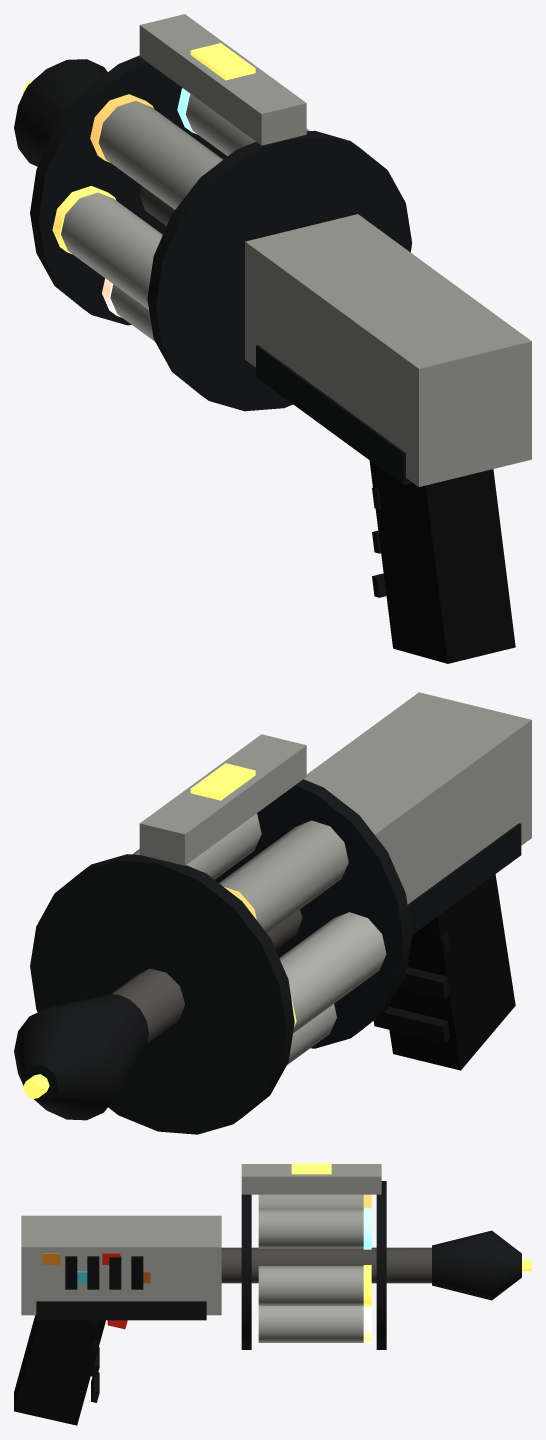
Rendered from tool_tag_painter.glb.
The picture shows the model from 3 angles, top to bottom: view 1: azimuth 30°, elevation 25°; view 2: azimuth 150°, elevation 25°; view 3: azimuth 270°, elevation 25°; orthographic projection. The views are drawn at different scales.
Visible parts, largest first — view 1: Body, Carousel; view 2: Body, Carousel; view 3: Body, Carousel.
Boxes of the visible parts, x1,y1,x2,y2 form: Body: (14, 14, 531, 663); Carousel: (52, 88, 309, 341); Body: (14, 692, 531, 1134); Carousel: (132, 813, 386, 1064); Body: (14, 1163, 531, 1425); Carousel: (258, 1194, 371, 1343).
Size of the model in its own units: 0.17 by 0.2739 by 0.5173.
